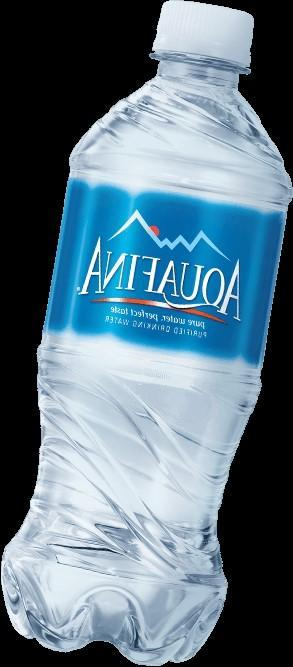bottle: (7, 0, 293, 667)
